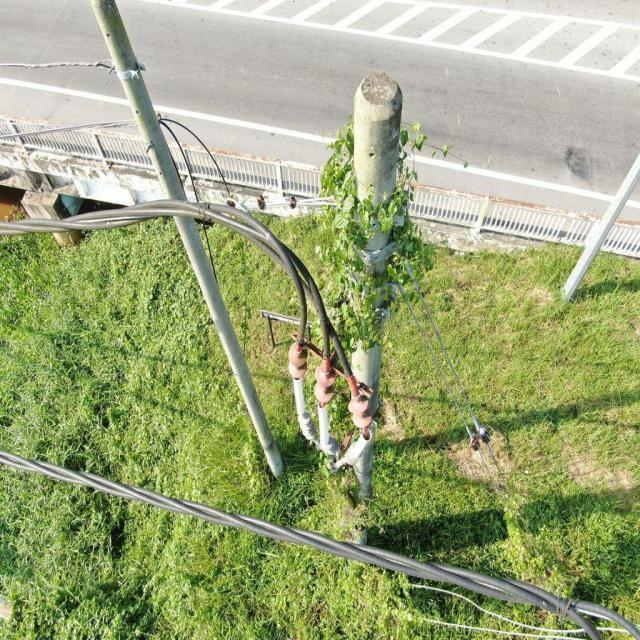critical vegetation: (304, 110, 470, 388)
